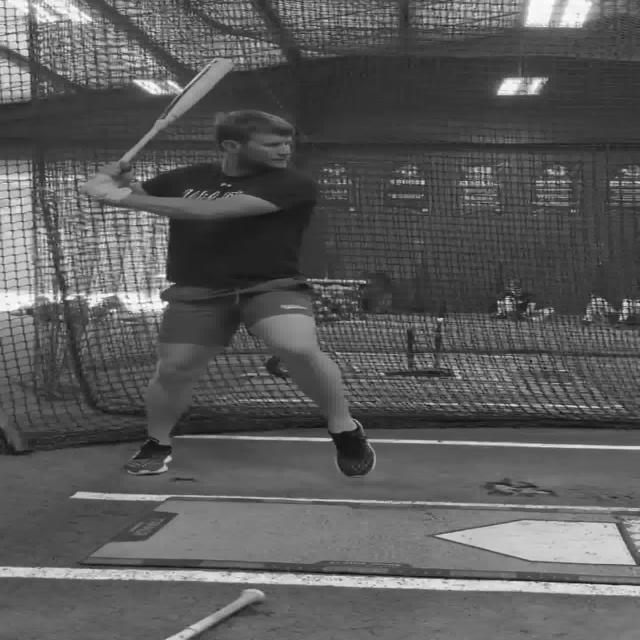base: (435, 514, 640, 570)
baseball_glove: (78, 172, 132, 202)
bat: (81, 57, 235, 199)
shoe: (327, 417, 375, 477), (124, 437, 172, 475), (264, 356, 290, 378)
